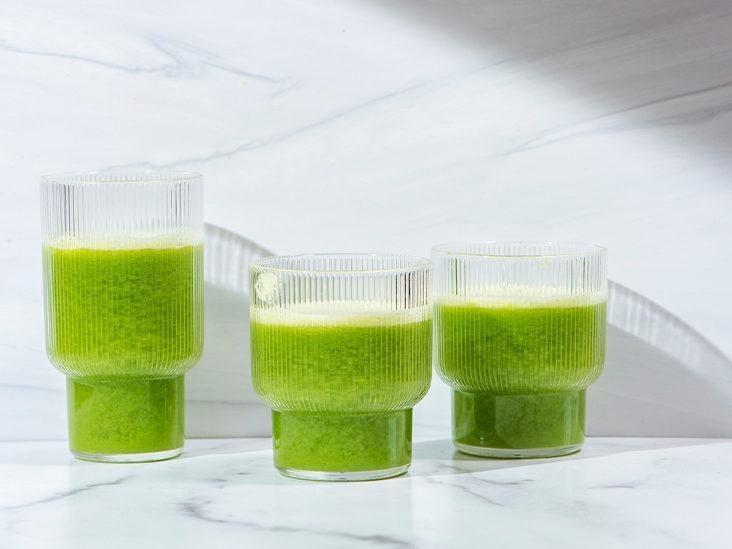glass-normal: (36, 160, 207, 464), (247, 250, 433, 484), (429, 236, 610, 461)
